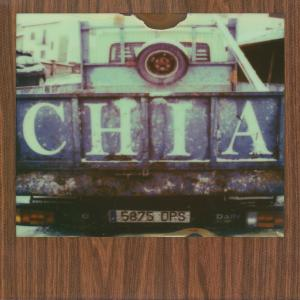Vehicle-registration-plate: (110, 211, 192, 222)
